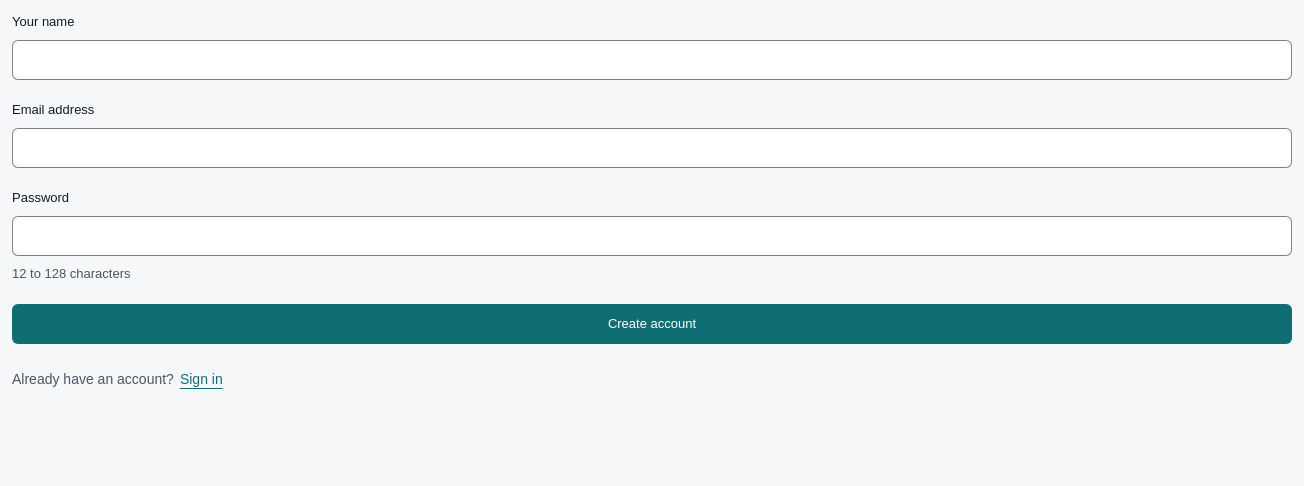
Test: SignUpForm (UI-002) › shows a message under every empty field
Step 1. Click the button "Create account" → click(652, 324), box x1=12 y1=304 x2=1292 y2=344
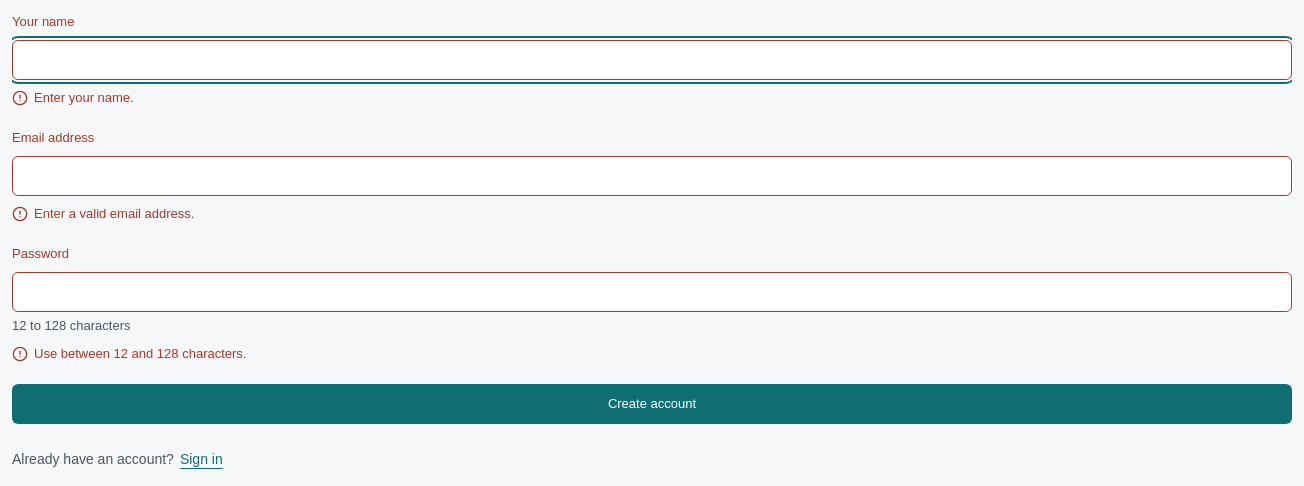
Result: the text "Enter your name." is shown at x1=34 y1=90 x2=134 y2=105
Result: the text "Enter a valid email address." is shown at x1=34 y1=206 x2=194 y2=221
Result: the text "Use between 12 and 128 characters." is shown at x1=34 y1=346 x2=246 y2=361
